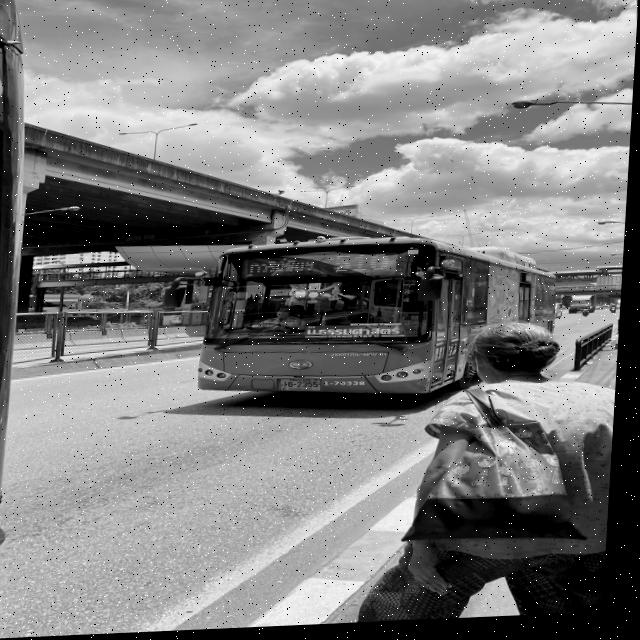BMTA-bus: (201, 234, 564, 409)
Bus-Line-Number: (332, 255, 398, 278)
Destination-Sign-Normal: (303, 324, 412, 348)
